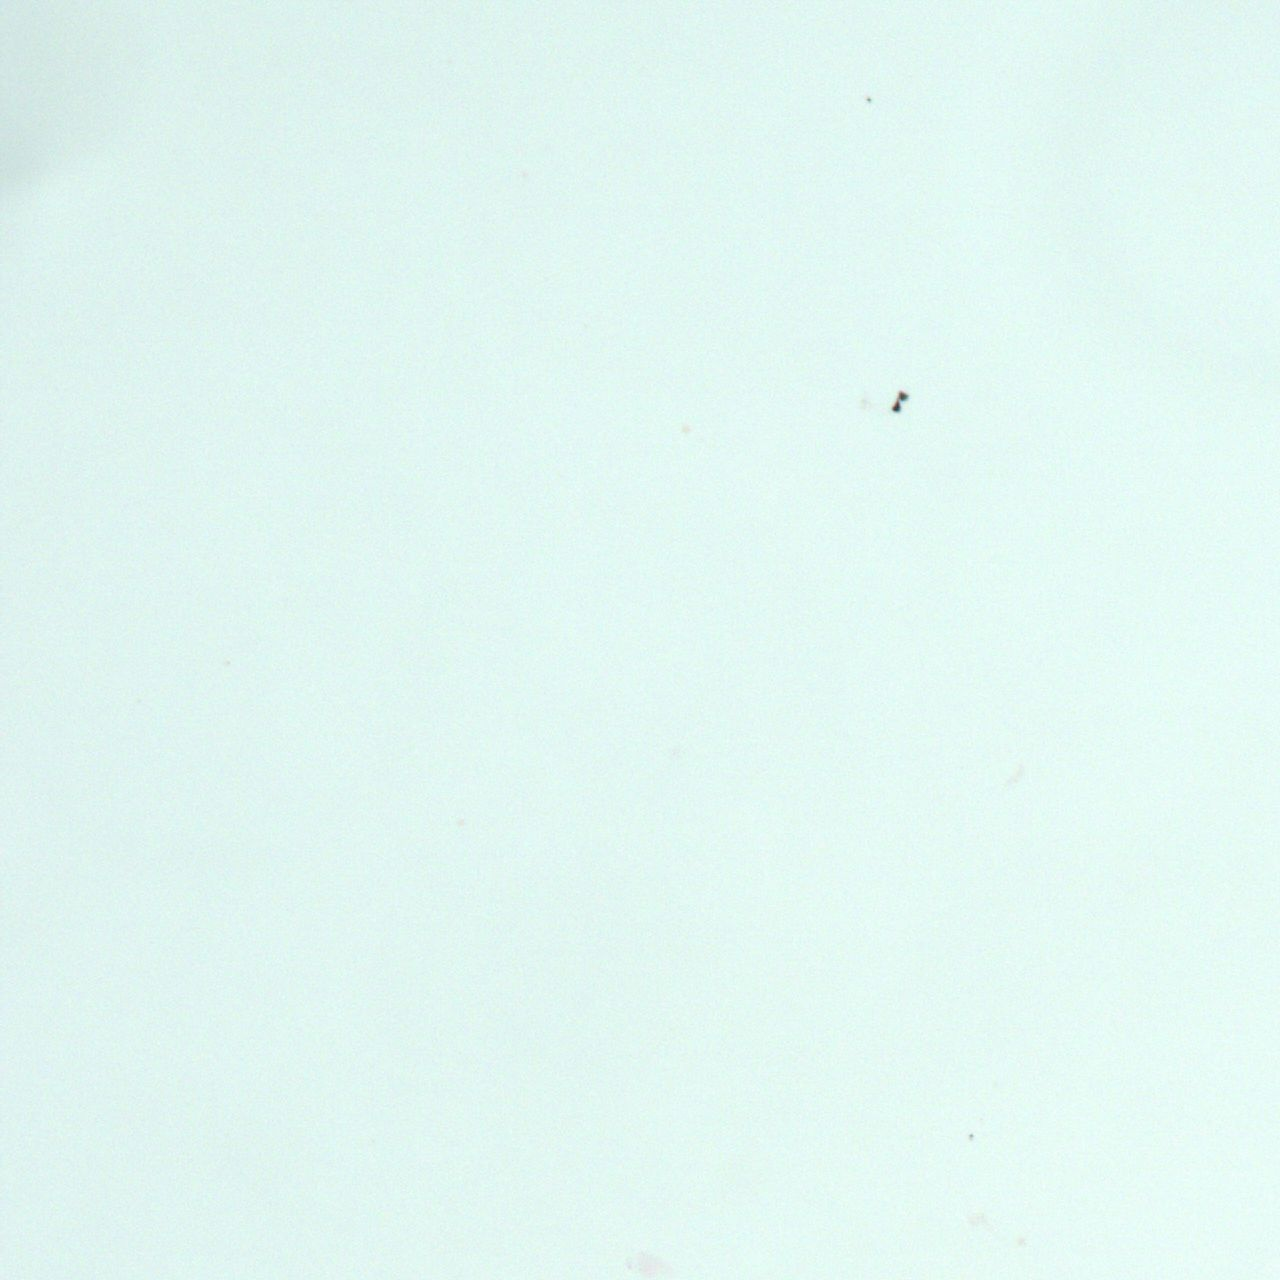dust: (897, 389, 908, 401), (891, 401, 901, 413)
